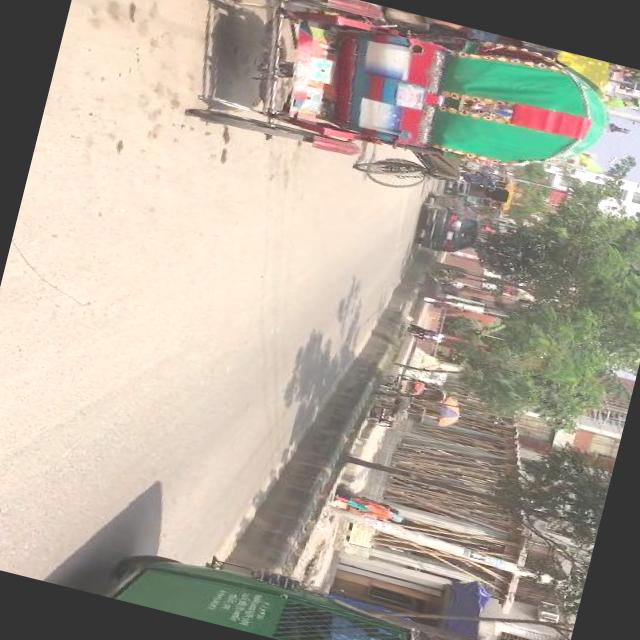bus: (447, 162, 517, 210)
car: (414, 189, 486, 258)
motorcycle: (167, 0, 619, 215), (106, 533, 469, 640), (408, 322, 451, 346)
